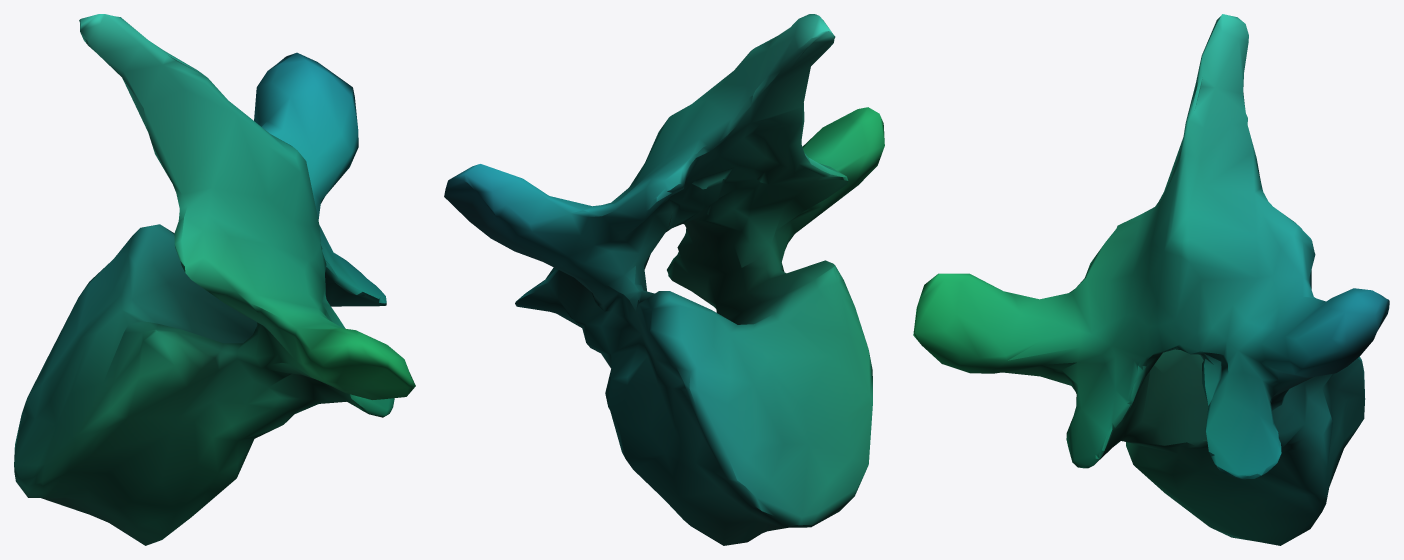
The model's file is zeometry-organic-forms-twisted-blob_v1.fbx.
3 views of the same model, side by side, from view 1: azimuth 30°, elevation 25°; view 2: azimuth 150°, elevation 25°; view 3: azimuth 270°, elevation 25° (orthographic). The views are drawn at different scales.
Parts seen in each view (by area): view 1: Twisted Blob; view 2: Twisted Blob; view 3: Twisted Blob.
Boxes of the visible parts, <box> form: Twisted Blob: <box>14,14,415,545</box>; Twisted Blob: <box>444,14,884,545</box>; Twisted Blob: <box>913,14,1389,545</box>.
Bounding box in the file's own units: 0.3584 × 0.5 × 0.4288.
